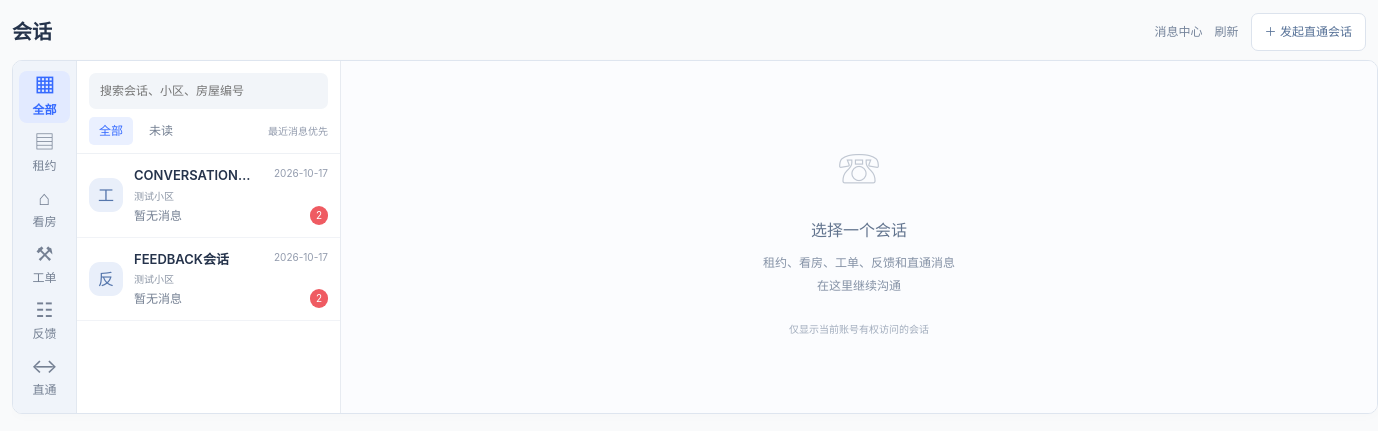
Test case: 三段工作区的真实入口与服务端列表 › 未读筛选保留当前刚读完的会话，切换后才移走
What coordinates should you click on to do the following:
click the button "未读"
I would click on:
 (161, 131)
Its box is x1=139 y1=117 x2=183 y2=145.
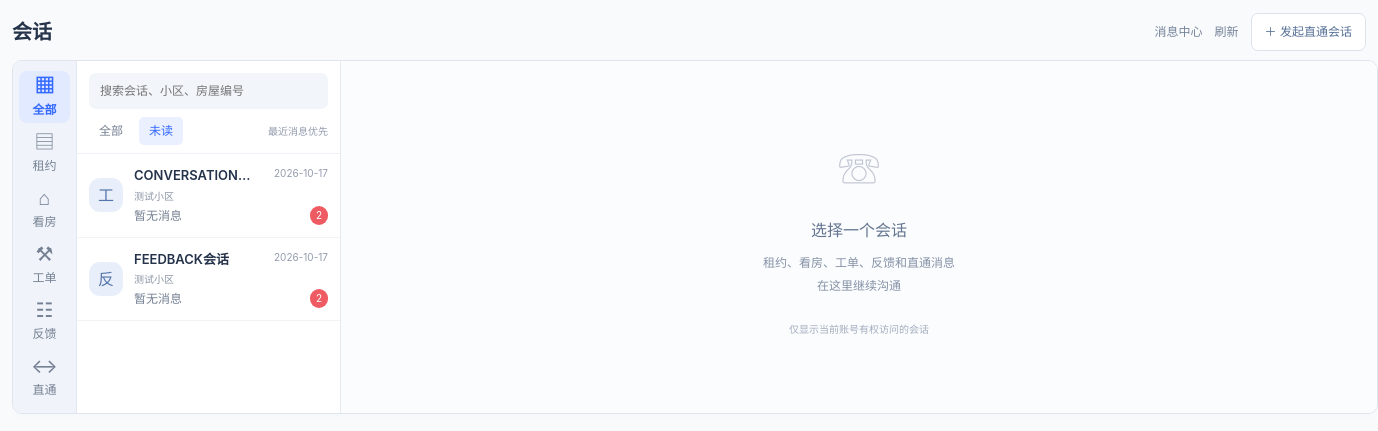
What coordinates should you click on to do the following:
click the 1st button with class "inbox-row"
I would click on:
 (106, 195)
Its box is x1=77 y1=154 x2=340 y2=238.
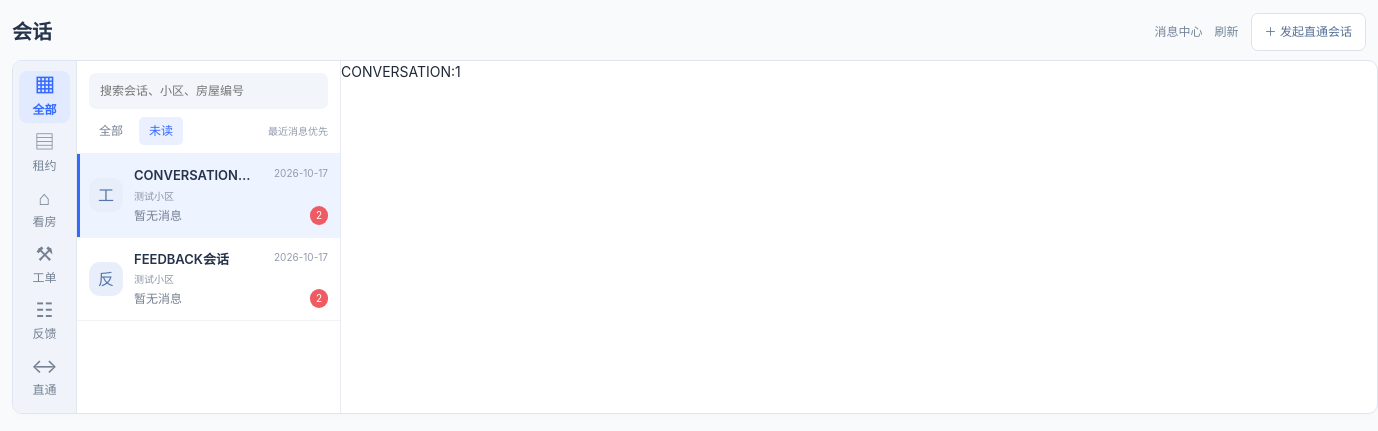
What coordinates should you click on to do the following:
click the button "刷新"
I would click on:
 (1227, 32)
Its box is x1=1215 y1=23 x2=1239 y2=41.
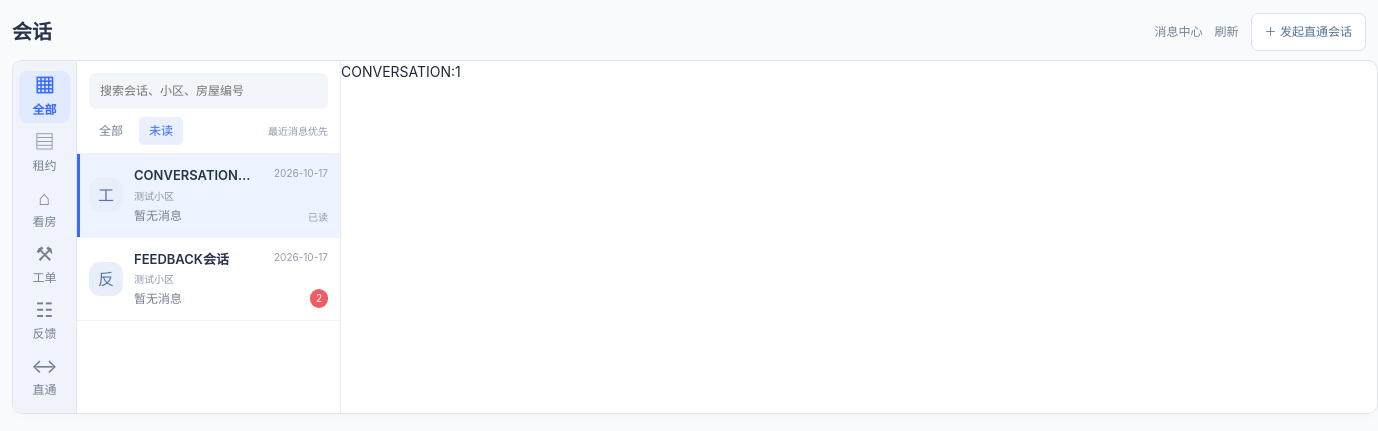
Now the button with class "inbox-row" shows "已读", box x1=77 y1=154 x2=340 y2=238
What coordinates should you click on to do the following:
click the 2nd button with class "inbox-row"
I would click on:
 (106, 279)
Its box is x1=77 y1=238 x2=340 y2=321.
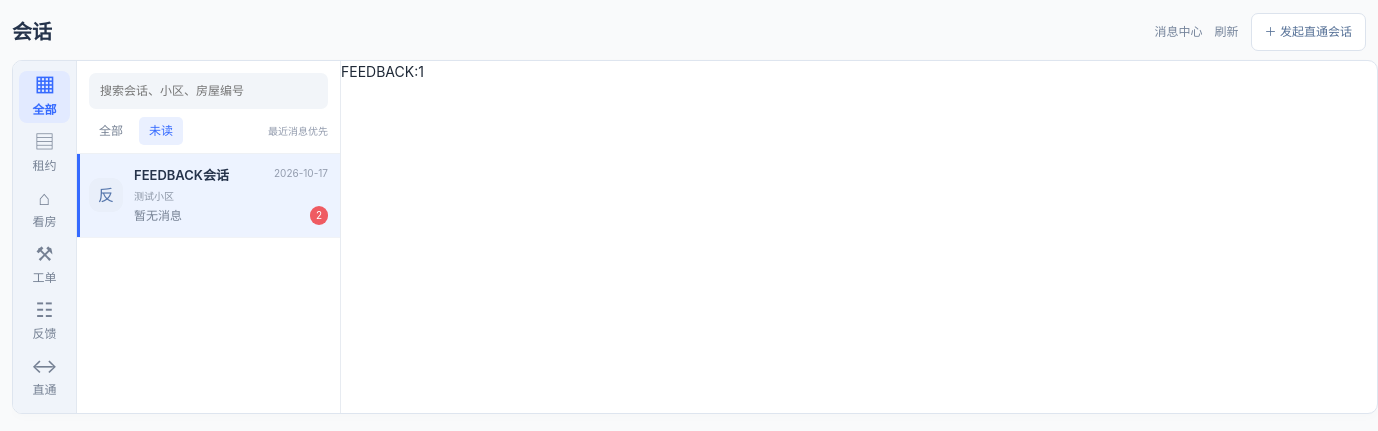
Now the number of buttons with class "inbox-row" is 1, box x1=77 y1=154 x2=340 y2=238
